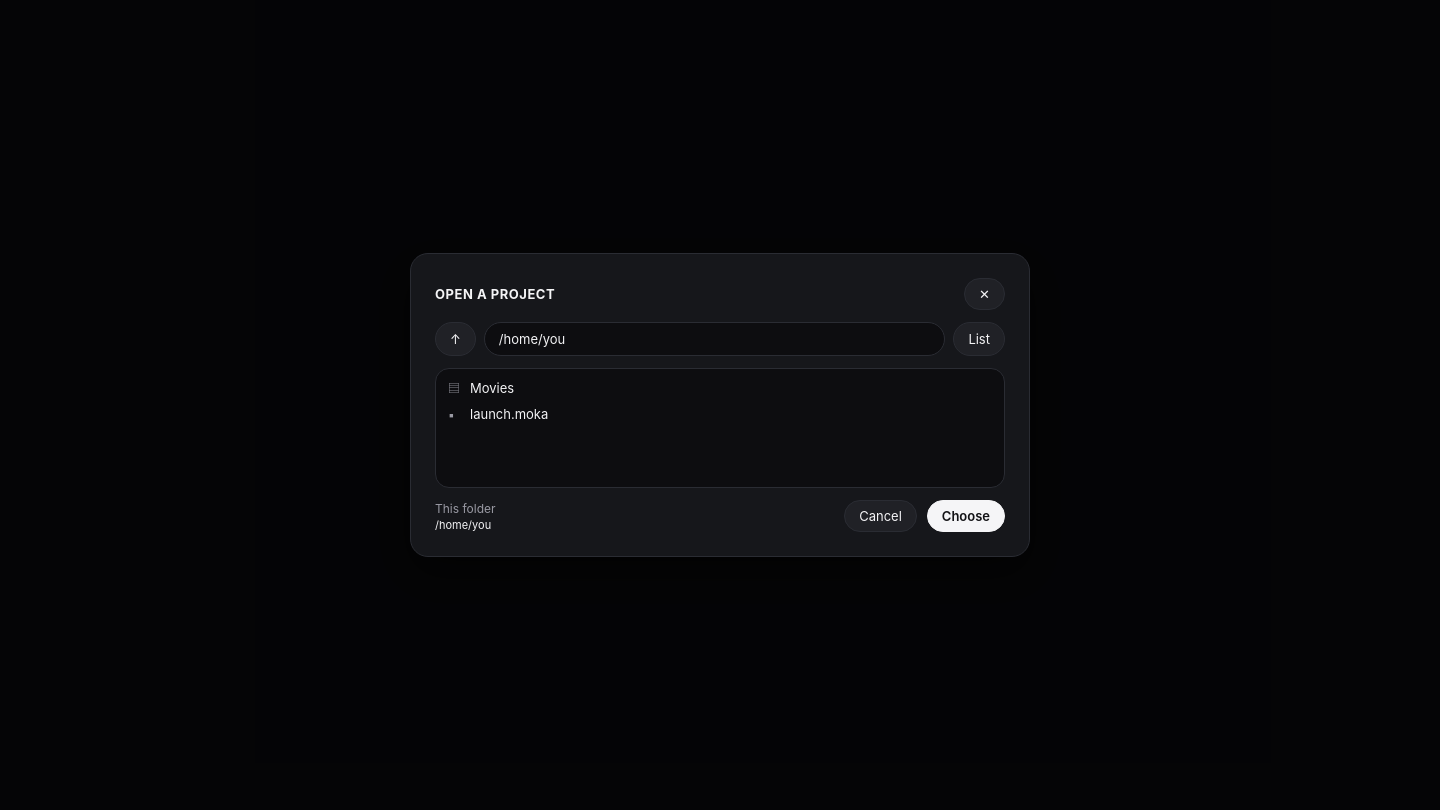
Scenario: the file dialog a browser has to draw itself › still lists a path that was typed, for a reader who knows where they mean
The image size is (1440, 810).
Replace the text in the field with test id "path-browser-typed" with "/home/you/Movies/Teaser": (715, 339) [484,322,945,356]
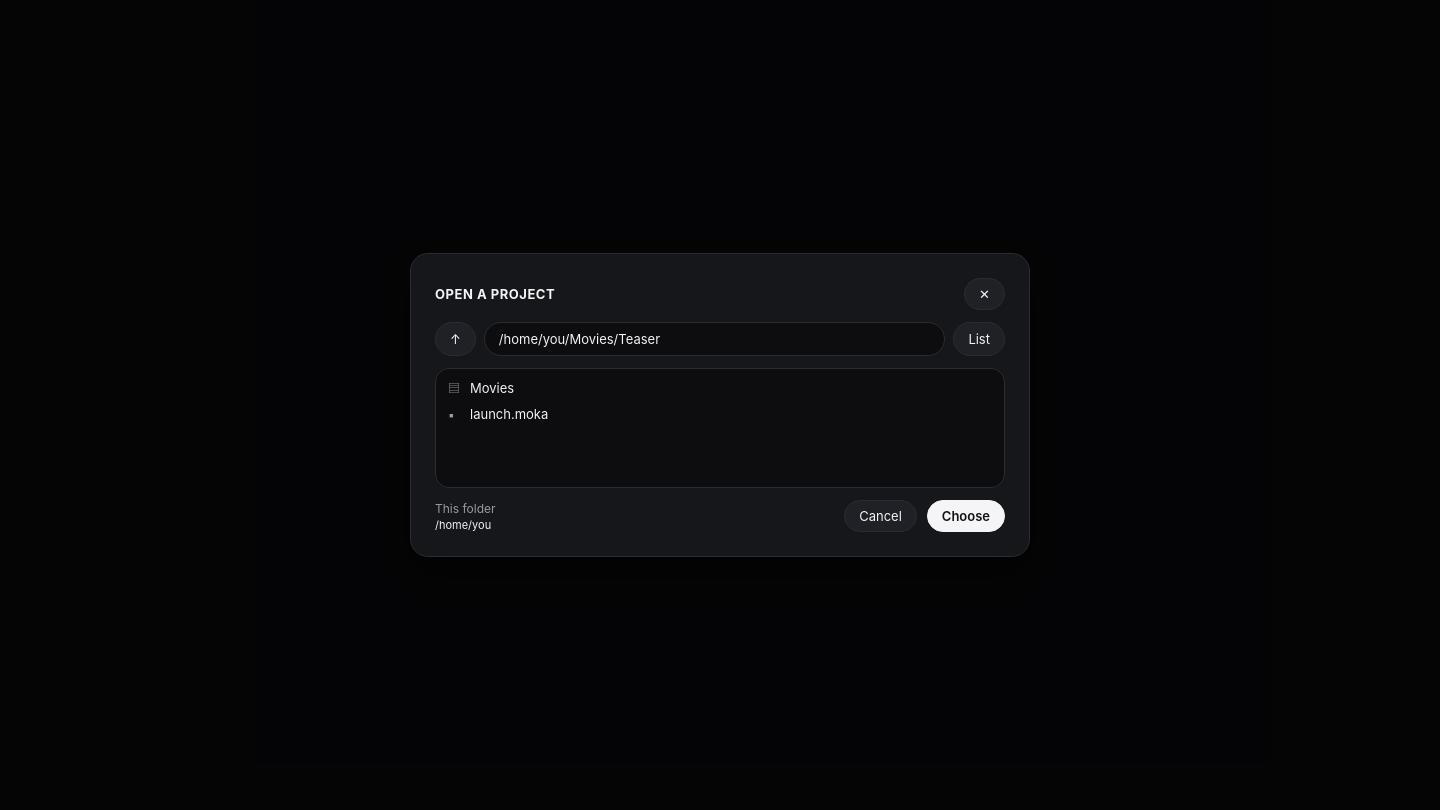
Submit the form with test id "path-browser-typed", box [435,322,1005,356]
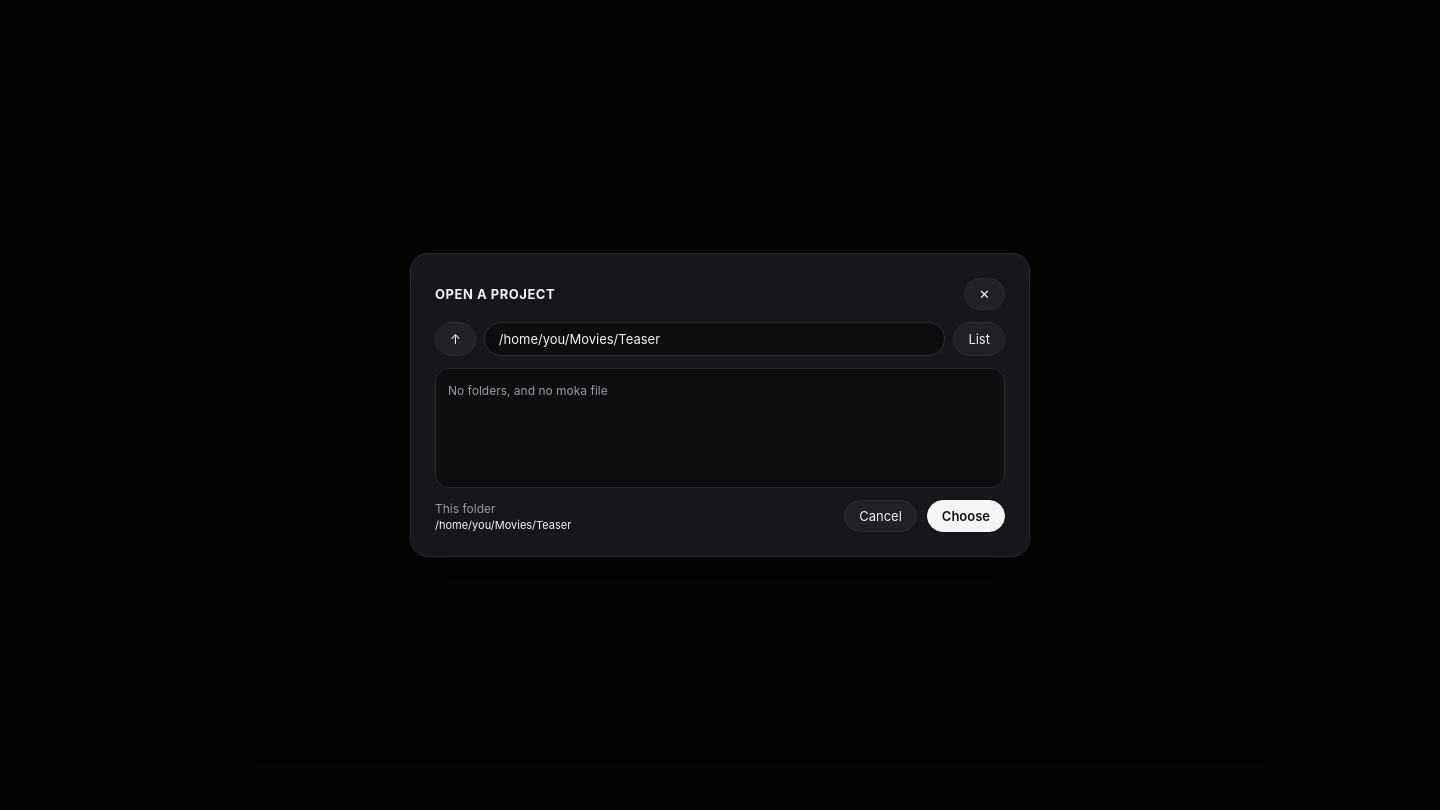
Check: the list item with test id "path-browser-none" is shown, box [448,383,608,398]
Check: the text "/home/you/Movies/Teaser" is shown, box [435,518,571,532]
